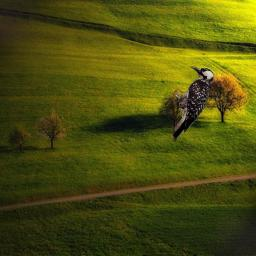Woodpecker: (170, 65, 219, 144)
